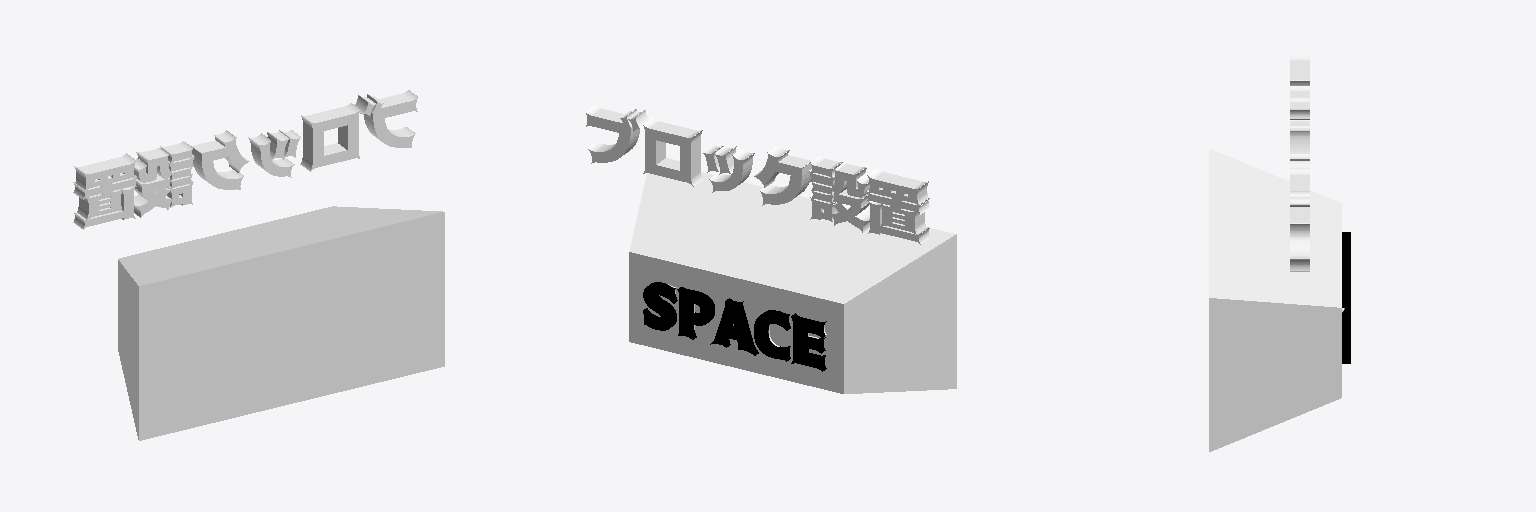
The picture shows the model from 3 angles: view 1: azimuth 30°, elevation 25°; view 2: azimuth 150°, elevation 25°; view 3: azimuth 270°, elevation 25°; orthographic projection.
Parts seen in each view (by area): view 1: 立方体; view 2: 立方体; view 3: 立方体.
Part boxes in pixels (x1,y1,x2,y2): 立方体: (73,90,444,440); 立方体: (586,105,956,393); 立方体: (1209,55,1350,451).
Size of the model in its own units: 3.9 by 2.7 by 1.43.
1 materials, 1 textured.